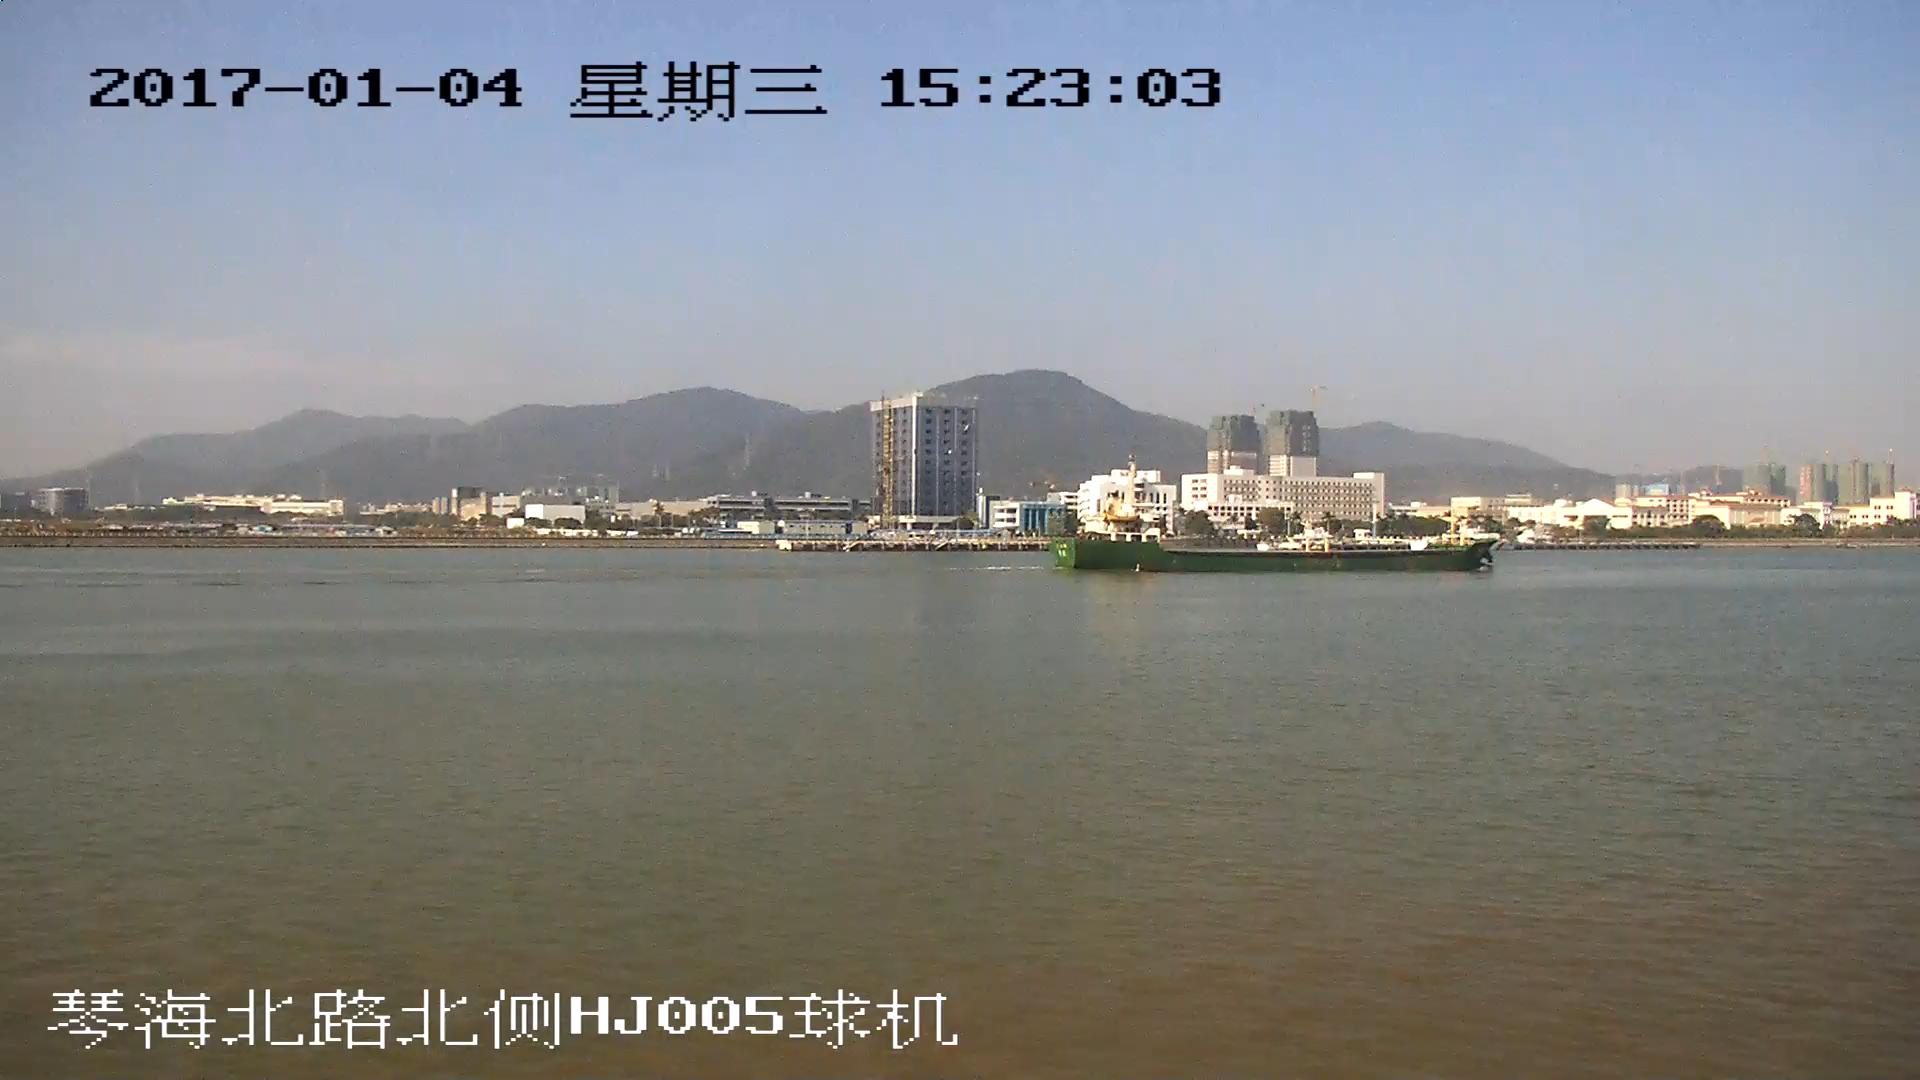general cargo ship: (1053, 469, 1503, 574)
